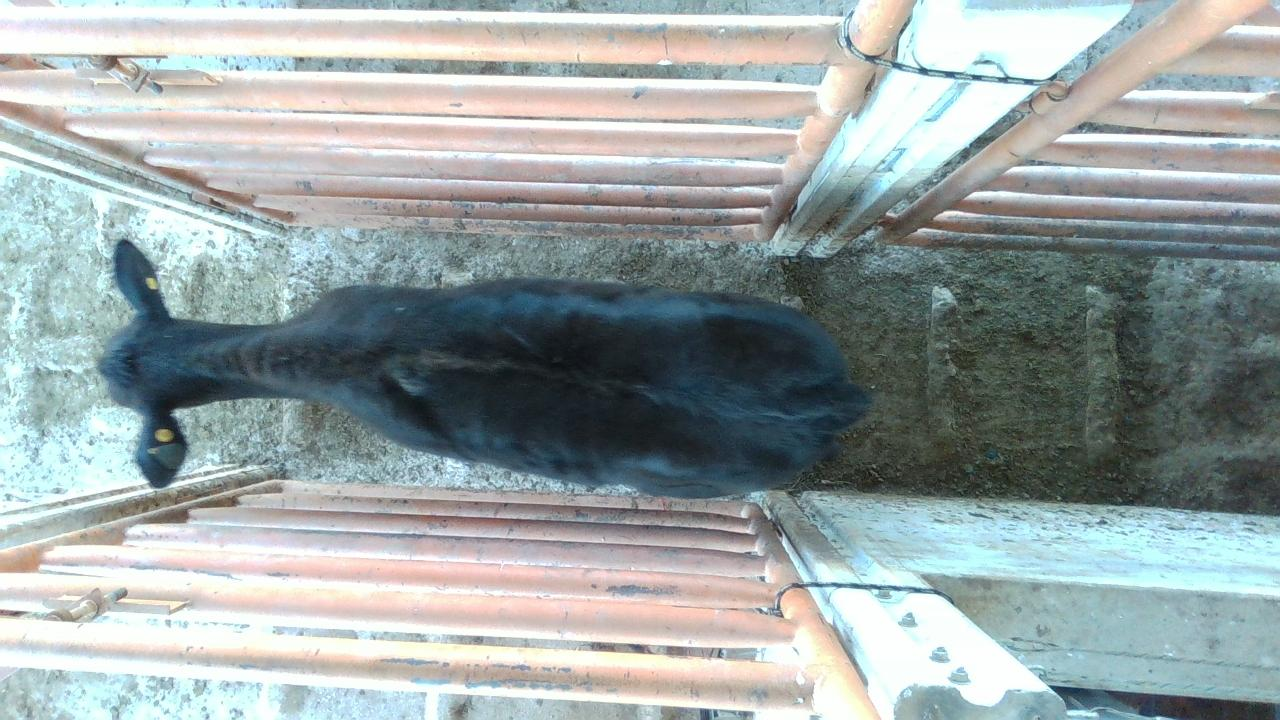cattle: (95, 237, 874, 499)
